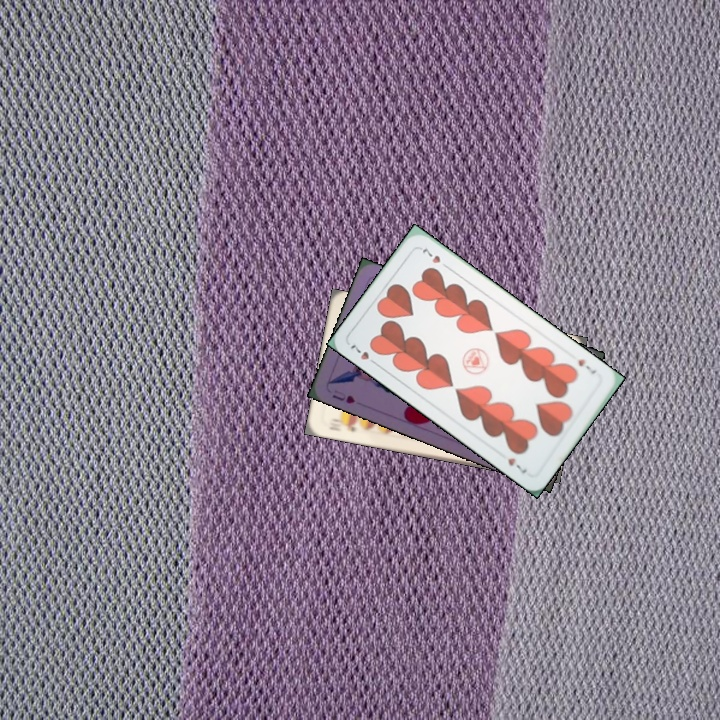E10: (326, 418, 359, 434)
H7: (346, 339, 381, 368), (574, 355, 599, 377)
HU: (328, 386, 358, 406)
